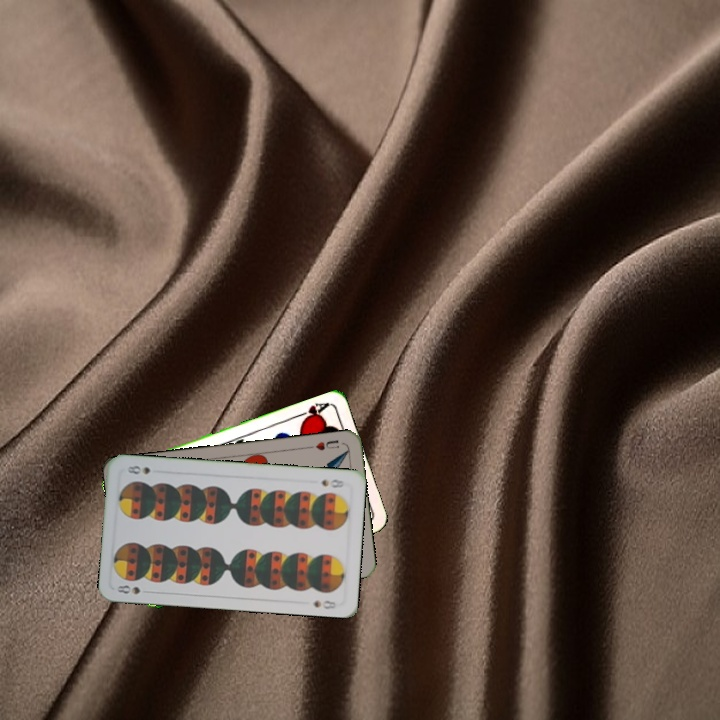HA: (292, 398, 331, 425)
HU: (305, 436, 342, 453)
S8: (317, 475, 347, 491), (113, 581, 143, 597)
